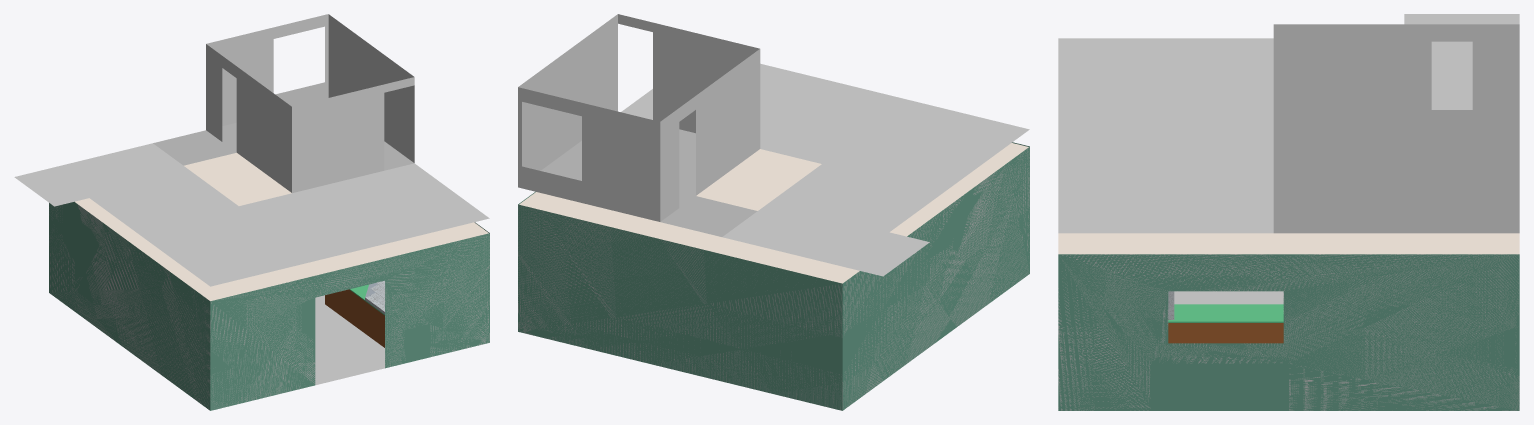
File: SketchUp_ID1823.dae
3 views of the same model, side by side, from view 1: azimuth 30°, elevation 25°; view 2: azimuth 150°, elevation 25°; view 3: azimuth 270°, elevation 25° (orthographic). The views are drawn at different scales.
Parts seen in each view (by area): view 1: SketchUp_ID1823; view 2: SketchUp_ID1823; view 3: SketchUp_ID1823.
Boxes of the visible parts, <box> form: SketchUp_ID1823: <box>14,14,489,410</box>; SketchUp_ID1823: <box>518,14,1029,410</box>; SketchUp_ID1823: <box>1058,14,1519,410</box>.
Bounding box in the file's own units: 9 × 8 × 5.76.
